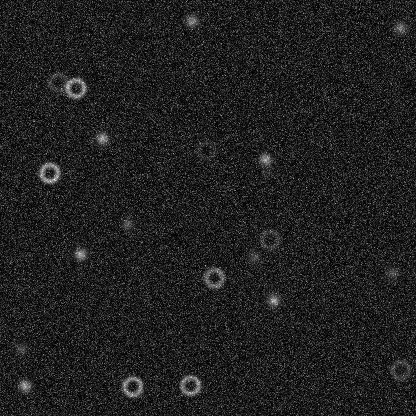Ring: (202, 265, 226, 289), (45, 70, 69, 94), (257, 227, 281, 251), (120, 374, 144, 398), (63, 75, 87, 99), (178, 373, 202, 397), (388, 357, 412, 381), (37, 160, 61, 184), (194, 138, 218, 162)
Spot: (13, 340, 29, 356), (16, 377, 32, 393), (94, 130, 110, 146), (259, 163, 275, 179), (257, 151, 273, 167), (119, 215, 135, 231), (72, 246, 88, 262), (392, 19, 408, 35), (384, 264, 400, 280), (245, 249, 261, 265), (265, 292, 281, 308), (183, 13, 199, 29)
